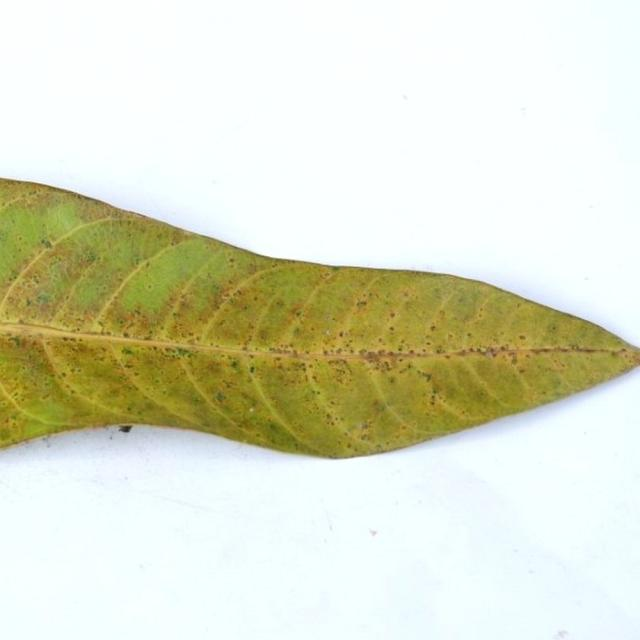Mango: (0, 179, 639, 457)
Powdery_Mildew: (456, 354, 528, 410), (324, 288, 401, 338), (9, 385, 79, 431), (48, 244, 101, 290), (16, 283, 65, 324), (109, 303, 166, 335), (312, 437, 367, 458), (221, 287, 252, 312), (452, 345, 507, 359), (155, 346, 195, 361), (357, 349, 396, 364), (328, 360, 352, 379), (217, 283, 236, 300), (1, 312, 23, 326), (7, 388, 24, 402), (6, 335, 23, 347), (158, 384, 174, 396), (36, 292, 51, 304), (613, 347, 629, 356), (132, 210, 149, 218), (84, 251, 95, 263), (121, 346, 135, 355), (325, 415, 336, 426), (6, 416, 17, 427), (372, 400, 384, 410), (429, 394, 440, 404), (215, 391, 225, 402), (361, 424, 371, 435), (421, 372, 431, 382), (229, 360, 239, 370), (41, 238, 52, 247), (360, 433, 371, 442), (345, 440, 354, 450), (331, 347, 343, 354), (72, 192, 84, 199), (292, 326, 301, 335), (115, 317, 124, 326), (96, 319, 105, 328), (510, 355, 518, 365), (132, 308, 142, 316), (28, 189, 38, 197), (321, 271, 331, 279), (330, 265, 341, 272), (356, 300, 367, 307), (476, 346, 487, 353), (41, 392, 51, 399), (438, 310, 446, 318), (143, 261, 151, 269), (134, 257, 141, 266), (435, 346, 444, 353), (0, 232, 7, 241), (24, 299, 32, 306), (312, 389, 320, 396), (295, 310, 303, 317), (249, 365, 255, 373), (384, 402, 392, 408), (518, 334, 526, 340), (360, 423, 368, 429), (325, 314, 333, 320), (550, 325, 557, 331), (123, 331, 130, 337), (403, 291, 410, 297), (389, 377, 395, 383), (338, 331, 344, 337), (325, 329, 332, 334), (229, 258, 235, 263), (467, 332, 472, 337), (18, 236, 23, 241), (147, 285, 152, 289), (639, 47, 640, 60)
